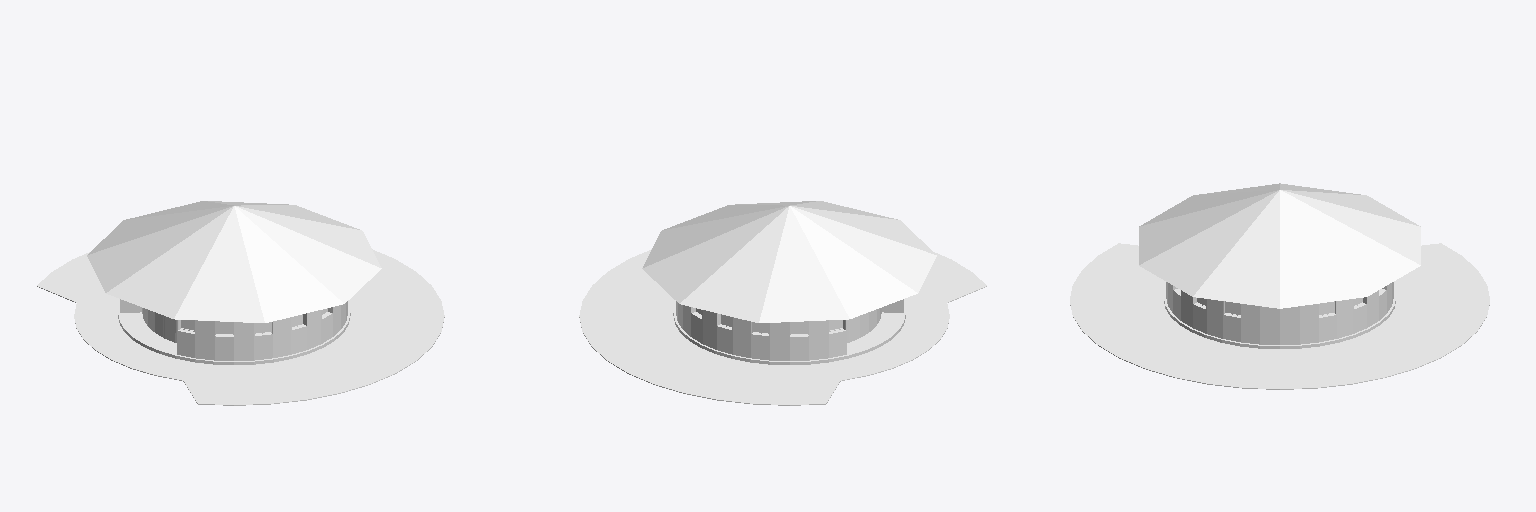
File: launghFinalWithMat.obj
3 renders of one model, left to right at view 1: azimuth 30°, elevation 25°; view 2: azimuth 150°, elevation 25°; view 3: azimuth 270°, elevation 25°, orthographic.
Visible parts, largest first — view 1: Cone.1; view 2: Cone.1; view 3: Cone.1.
Boxes of the visible parts, box(x1,y1,x2,y2) form: Cone.1: box(37, 201, 444, 405); Cone.1: box(579, 201, 986, 405); Cone.1: box(1070, 183, 1489, 389).
Bounding box in the file's own units: 58.65 × 19.45 × 66.59.